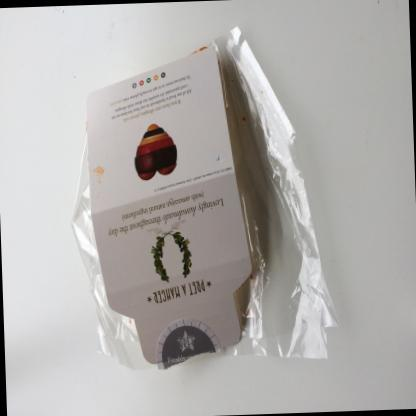Paper: (86, 46, 253, 363)
Plastic: (71, 25, 342, 369)
